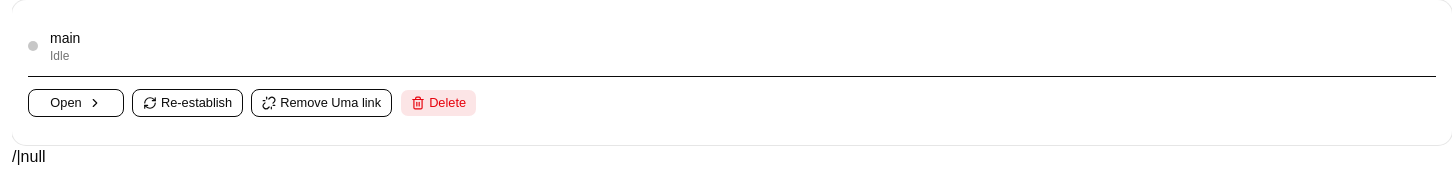
AccountCard re-establish › routes to the account re-establishment check
The width and height of the screenshot is (1452, 182).
Click the button "Re-establish" at (188,103), box [132,89,243,117]
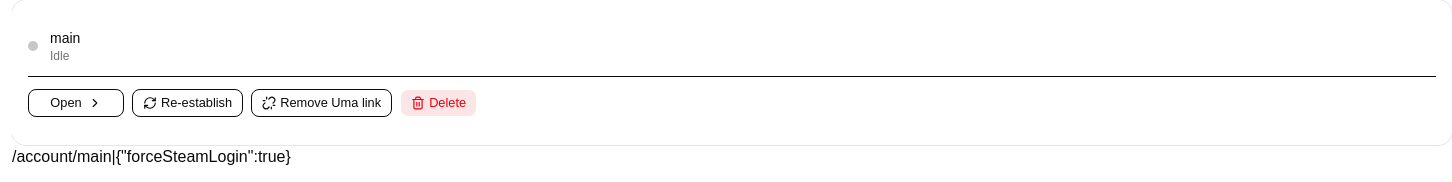
Check: the text with test id "location" reads "/account/main|{\"forceSteamLogin\":true}", box [12,148,112,165]
